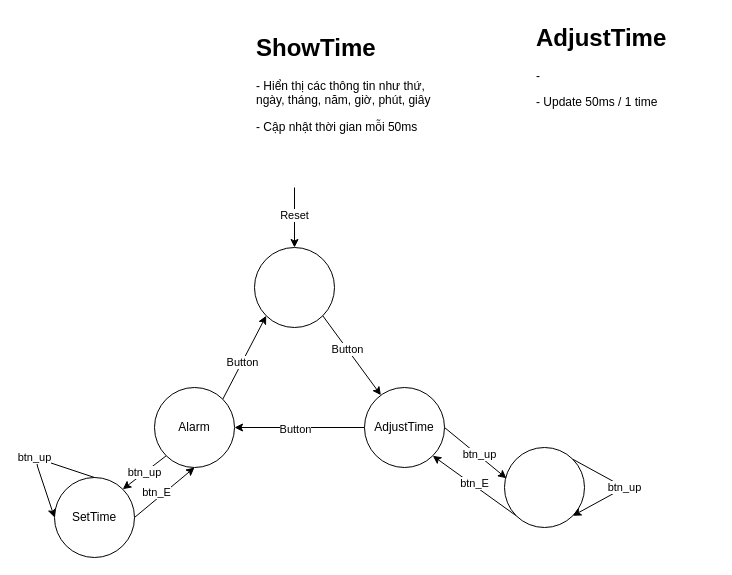
Some shapes in this 732 by 575 pixel diagram are drawn without their labels. Each missing label, with the box of its shape:
IncreaseTime: (504, 446, 584, 528)
ShowTime: (254, 246, 334, 328)
